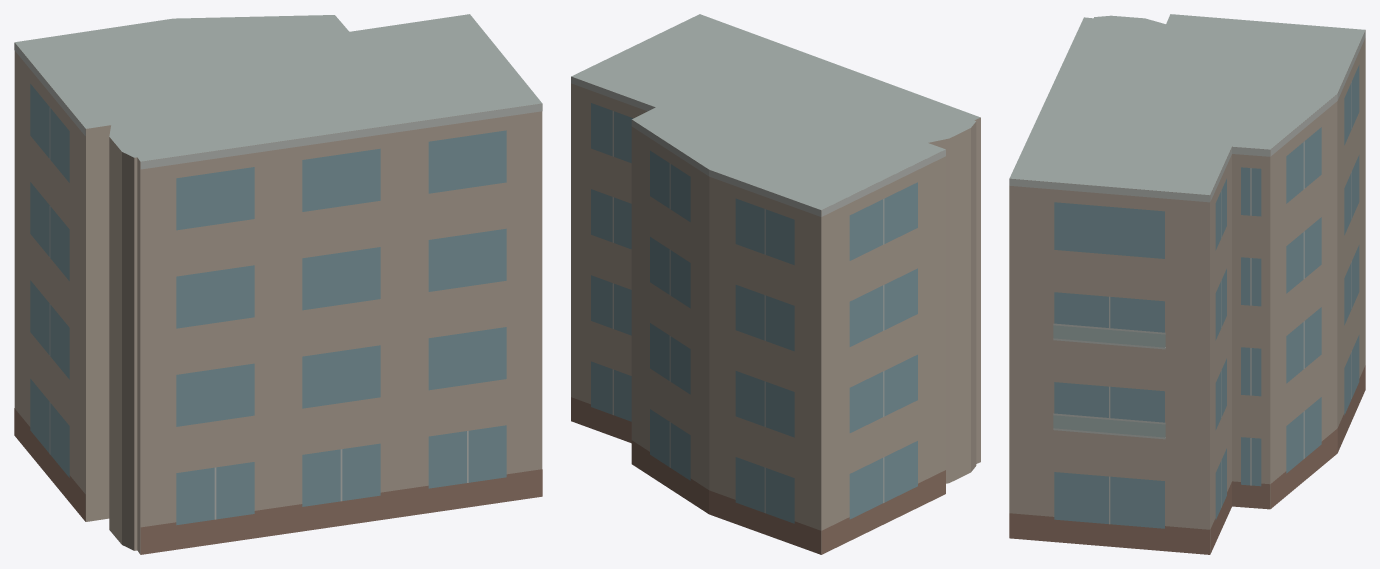
File: survey-upis-32611843.glb
3 renders of one model, left to right at view 1: azimuth 30°, elevation 25°; view 2: azimuth 150°, elevation 25°; view 3: azimuth 270°, elevation 25°, orthographic. The views are drawn at different scales.
Parts seen in each view (by area): view 1: survey-upis-32611843.tmp; view 2: survey-upis-32611843.tmp; view 3: survey-upis-32611843.tmp.
Part boxes in pixels (x1,y1,x2,y2): survey-upis-32611843.tmp: [14, 14, 542, 554]; survey-upis-32611843.tmp: [571, 14, 980, 554]; survey-upis-32611843.tmp: [1009, 14, 1365, 554].
Size of the model in its own units: 13.19 by 12.2 by 10.96.
